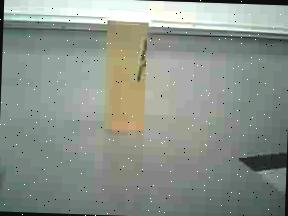Bottle A: (104, 12, 147, 131)
